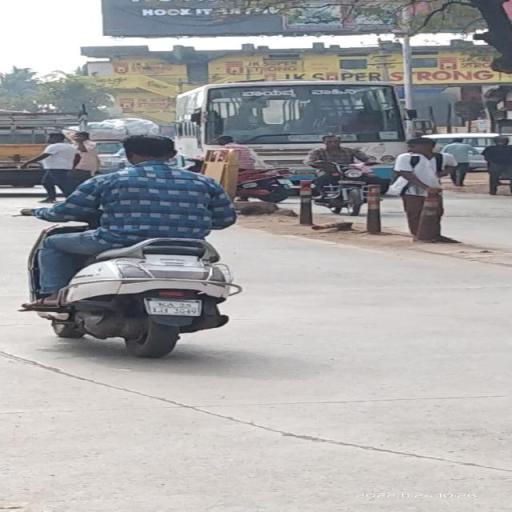bike: (12, 133, 248, 359)
numberplate: (148, 298, 200, 316)
withouthelmet: (125, 136, 177, 162)
